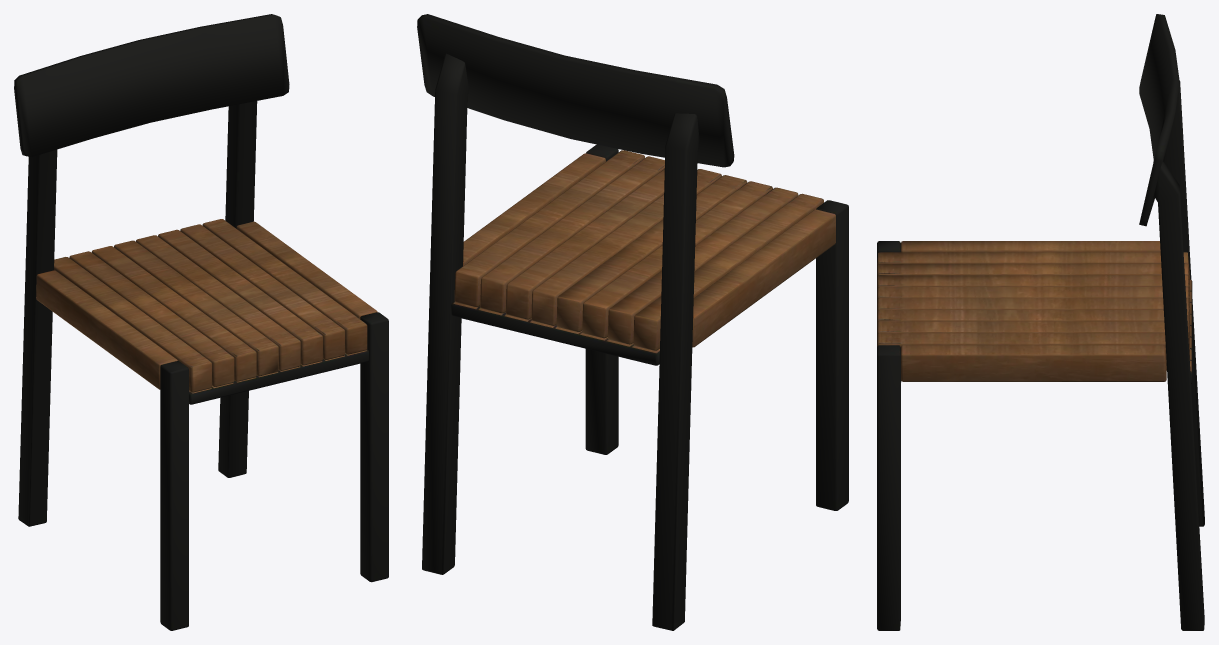
The model's file is chair_003.glb.
3 views of the same model, side by side, from view 1: azimuth 30°, elevation 25°; view 2: azimuth 150°, elevation 25°; view 3: azimuth 270°, elevation 25° (orthographic). The views are drawn at different scales.
Visible parts, largest first — view 1: chair_003; view 2: chair_003; view 3: chair_003.
Boxes of the visible parts, <box> form: chair_003: <box>14,14,388,630</box>; chair_003: <box>417,14,848,630</box>; chair_003: <box>877,14,1204,630</box>.
Size of the model in its own units: 0.6251 by 1.04 by 0.624.
Materials: 1 (1 with a texture image).
